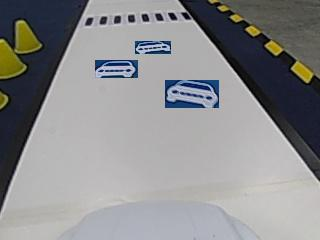crosswalk: (83, 11, 190, 26)
